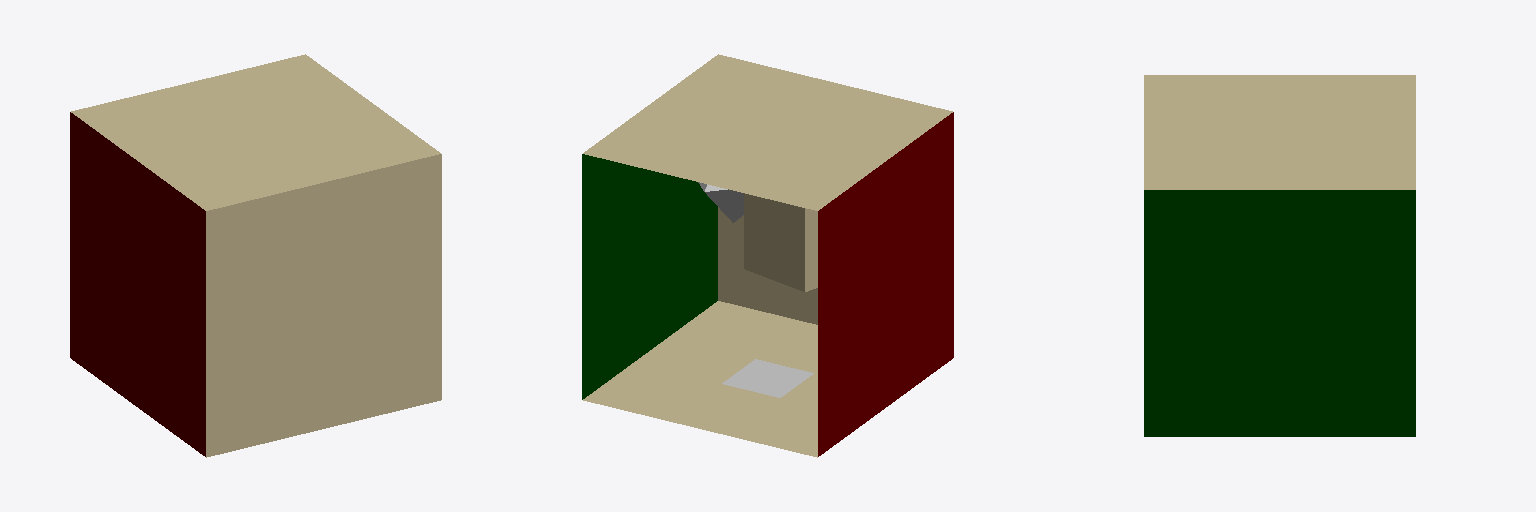
File: meltdown_box.obj
3 views of the same model, side by side, from view 1: azimuth 30°, elevation 25°; view 2: azimuth 150°, elevation 25°; view 3: azimuth 270°, elevation 25° (orthographic).
Parts seen in each view (by area): view 1: OuterBox, WhiteBox; view 2: OuterBox, WhiteBox, Light, Octahedron; view 3: OuterBox, WhiteBox.
Boxes of the visible parts, x1,y1,x2,y2 form: OuterBox: [70, 54, 441, 457]; WhiteBox: [151, 114, 252, 157]; OuterBox: [582, 54, 953, 457]; WhiteBox: [744, 127, 858, 291]; Light: [722, 359, 813, 397]; Octahedron: [698, 182, 743, 222]; OuterBox: [1144, 75, 1415, 436]; WhiteBox: [1252, 91, 1347, 131].
Bounding box in the file's own units: 4 × 4 × 4.